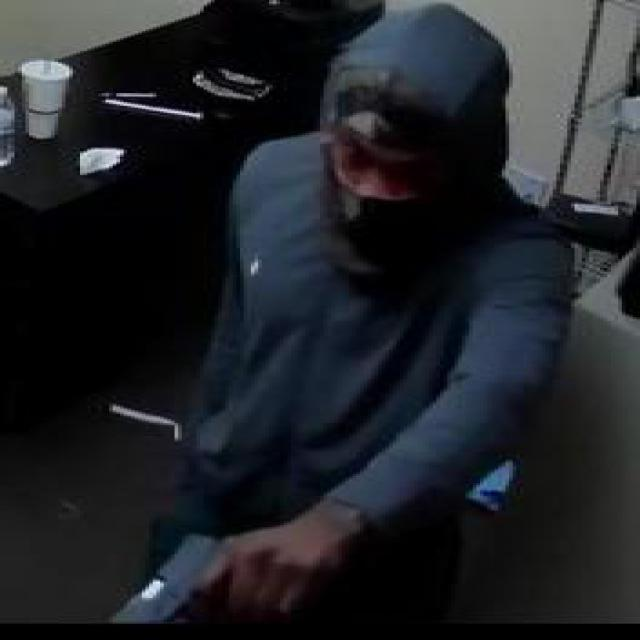weapon: (101, 534, 266, 625)
